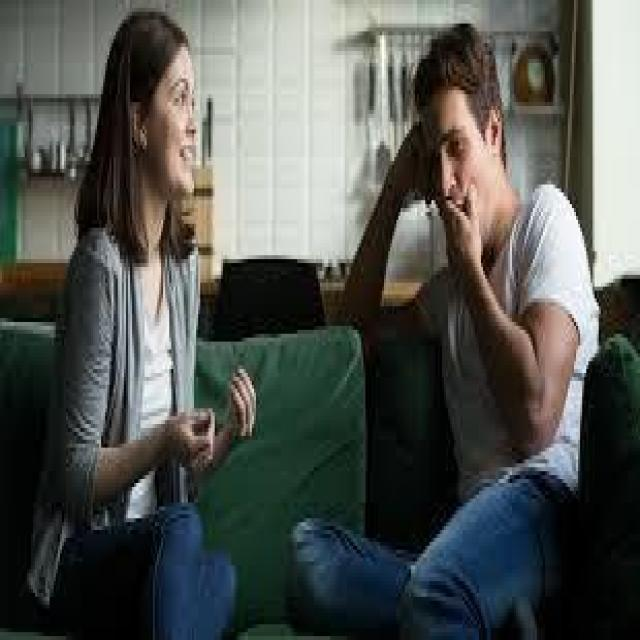person: (270, 12, 601, 636), (27, 12, 268, 636)
